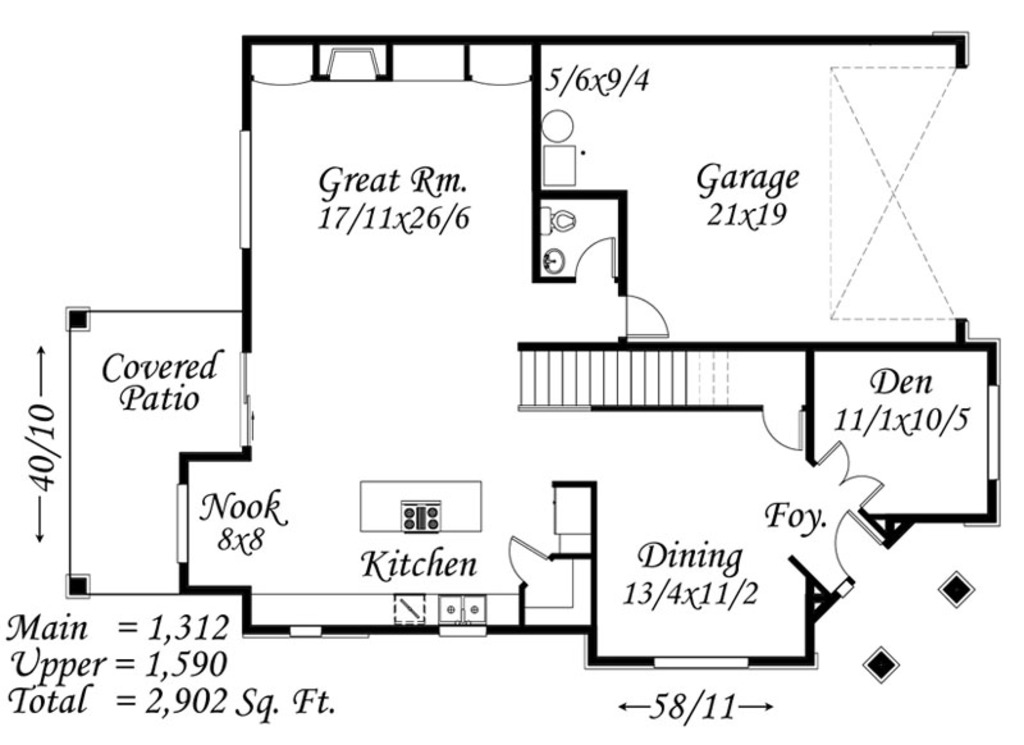door: (806, 435, 889, 506), (829, 502, 884, 592), (497, 526, 555, 590), (571, 232, 619, 292), (616, 294, 680, 339), (760, 405, 814, 455)
kitchen_bar: (342, 475, 490, 544)
large_sink: (537, 201, 578, 241)
small_sink: (536, 235, 567, 279)
stairs: (515, 346, 758, 412)
twin_sink: (436, 592, 501, 643)
window: (236, 128, 254, 255), (173, 482, 195, 579), (653, 654, 755, 673), (986, 381, 999, 492)
